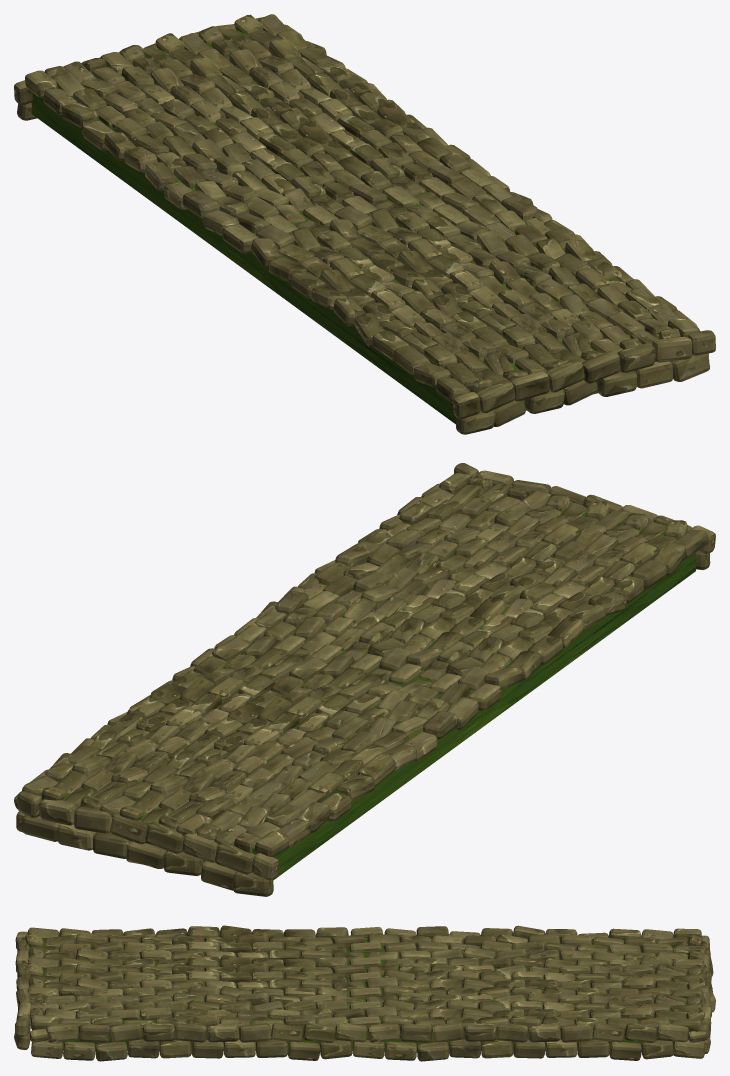
File: chao.fbx
3 renders of one model, top to bottom at view 1: azimuth 30°, elevation 25°; view 2: azimuth 150°, elevation 25°; view 3: azimuth 270°, elevation 25°, orthographic. The views are drawn at different scales.
Visible parts, largest first — view 1: tijolos.002, tijolos.001, Cube; view 2: tijolos.002, tijolos.001, Cube; view 3: tijolos.002, tijolos.001, Cube.
Part boxes in pixels (x1=…): tijolos.002: x1=25, y1=14, x2=699, y2=402; tijolos.001: x1=14, y1=17, x2=715, y2=434; Cube: x1=31, y1=30, x2=671, y2=424; tijolos.002: x1=22, y1=473, x2=708, y2=857; tijolos.001: x1=14, y1=463, x2=715, y2=896; Cube: x1=41, y1=491, x2=695, y2=880; tijolos.002: x1=25, y1=925, x2=705, y2=1032; tijolos.001: x1=14, y1=931, x2=715, y2=1061; Cube: x1=33, y1=935, x2=688, y2=1050.
Size of the model in its own units: 1695 by 328 by 4866.
Materials: 2 (2 with a texture image).
